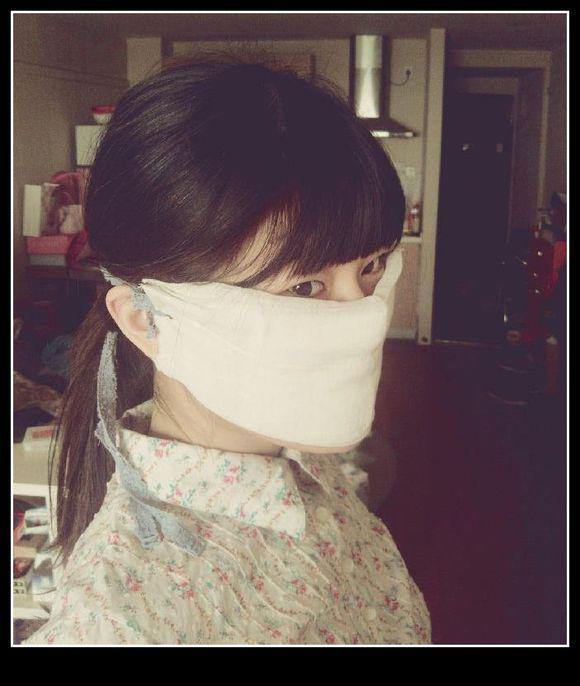WRONG: (170, 222, 401, 459)
